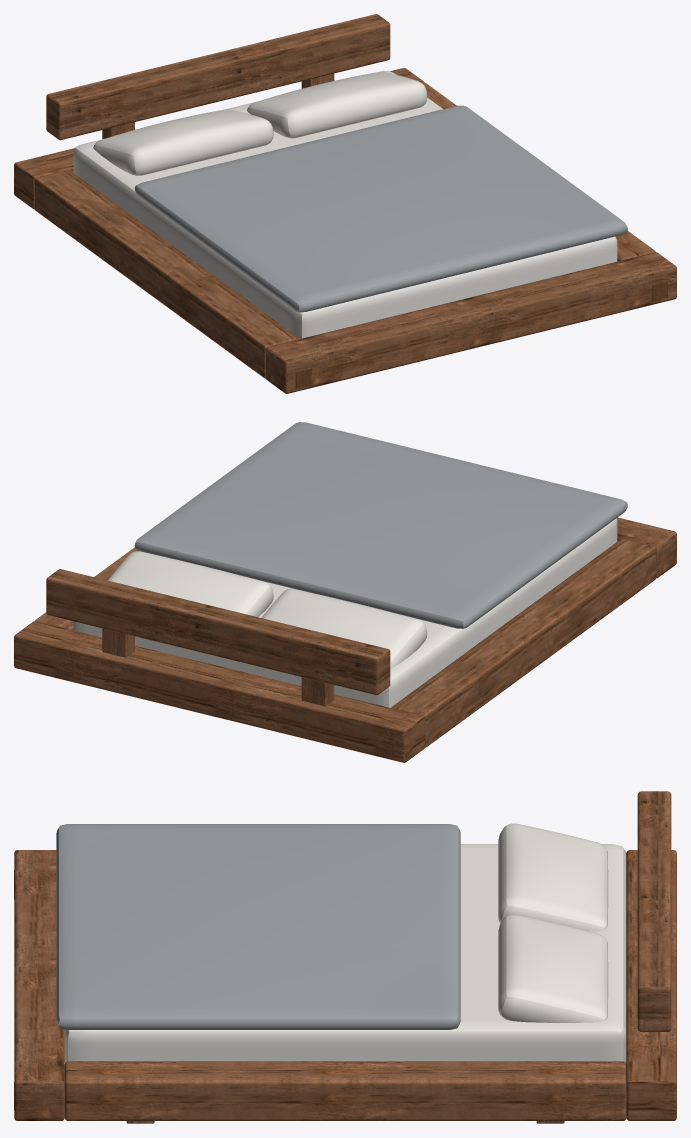
The model's file is bed-poutre.glb.
The picture shows the model from 3 angles, top to bottom: view 1: azimuth 30°, elevation 25°; view 2: azimuth 150°, elevation 25°; view 3: azimuth 270°, elevation 25°; orthographic projection. The views are drawn at different scales.
Bounding box in the file's own units: 1.96 × 0.6301 × 2.36.
Materials: 4 (2 with a texture image).
